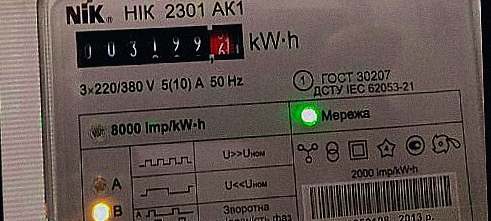0: (105, 39, 116, 58), (82, 40, 91, 59)
1: (148, 34, 158, 52)
3: (127, 38, 137, 58)
6: (215, 40, 225, 54)
9: (169, 32, 180, 53), (191, 34, 202, 52)
screen: (67, 14, 251, 74)
